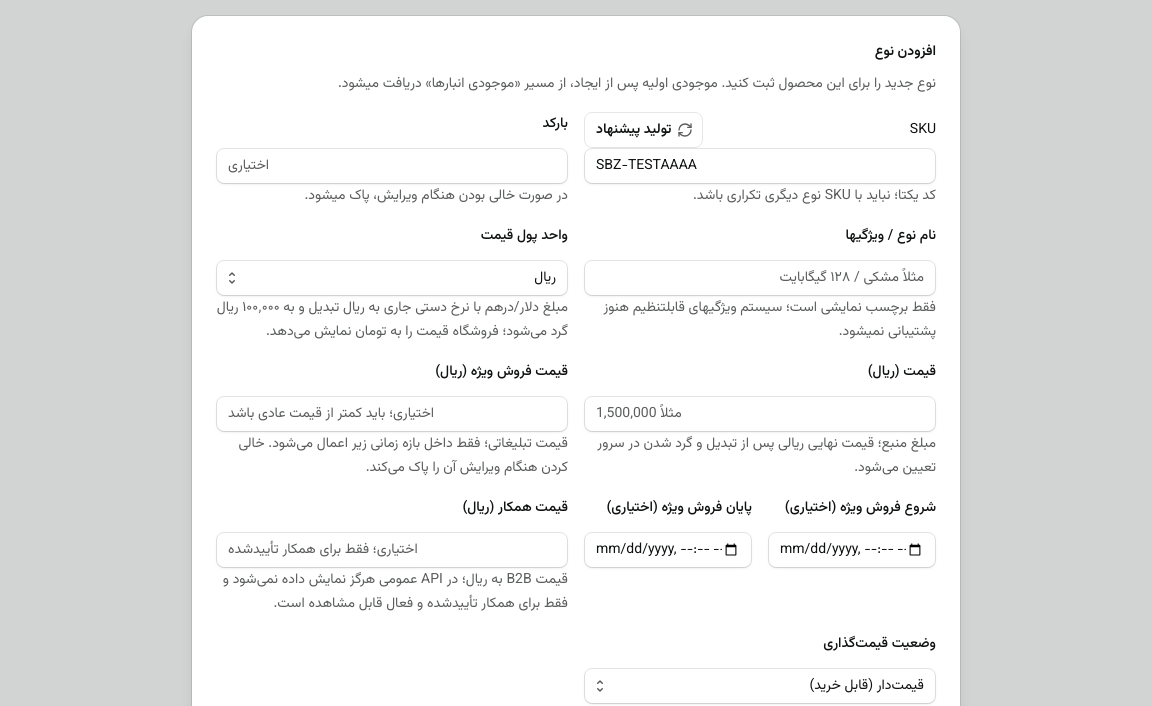
Scenario: VariantForm SKU suggestion (SS-256) › groups thousands while typing and submits the canonical raw value
The width and height of the screenshot is (1152, 706).
Later steps or results of the test are not shown.
In the field labelled "قیمت (ریال)": (760, 414) [584,396,936,432], type "1500000"
(page scrolled)
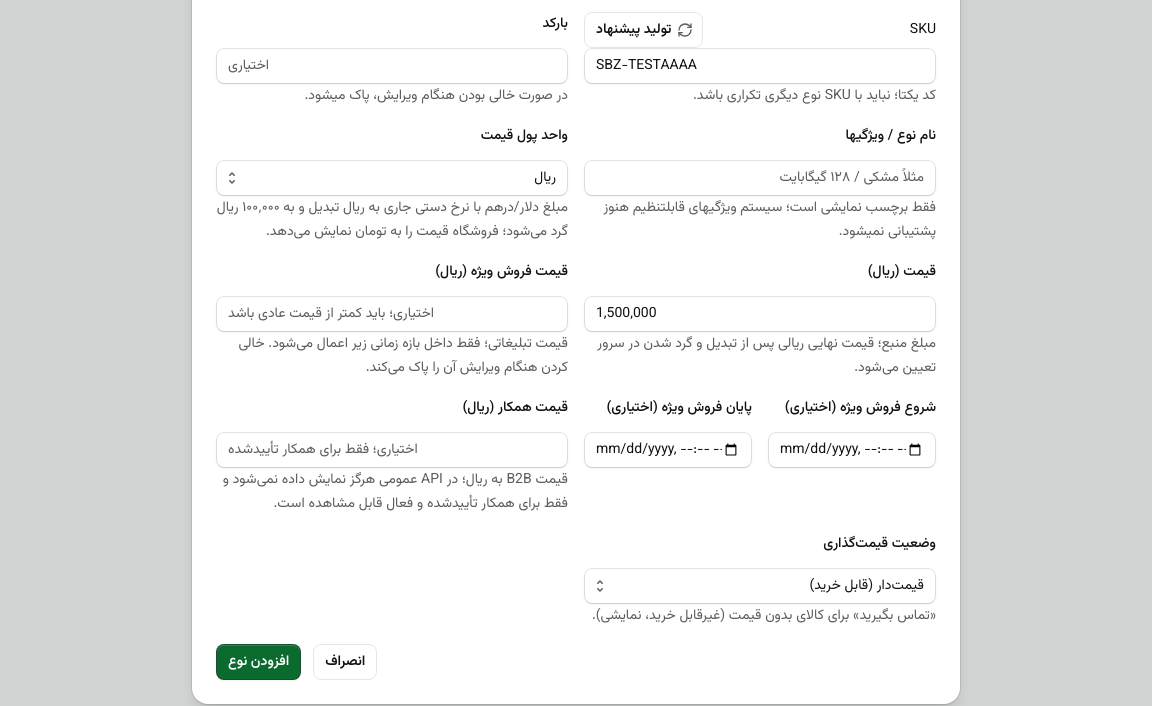
Check: the field labelled "قیمت (ریال)" holds "1,500,000", box [584,296,936,332]
